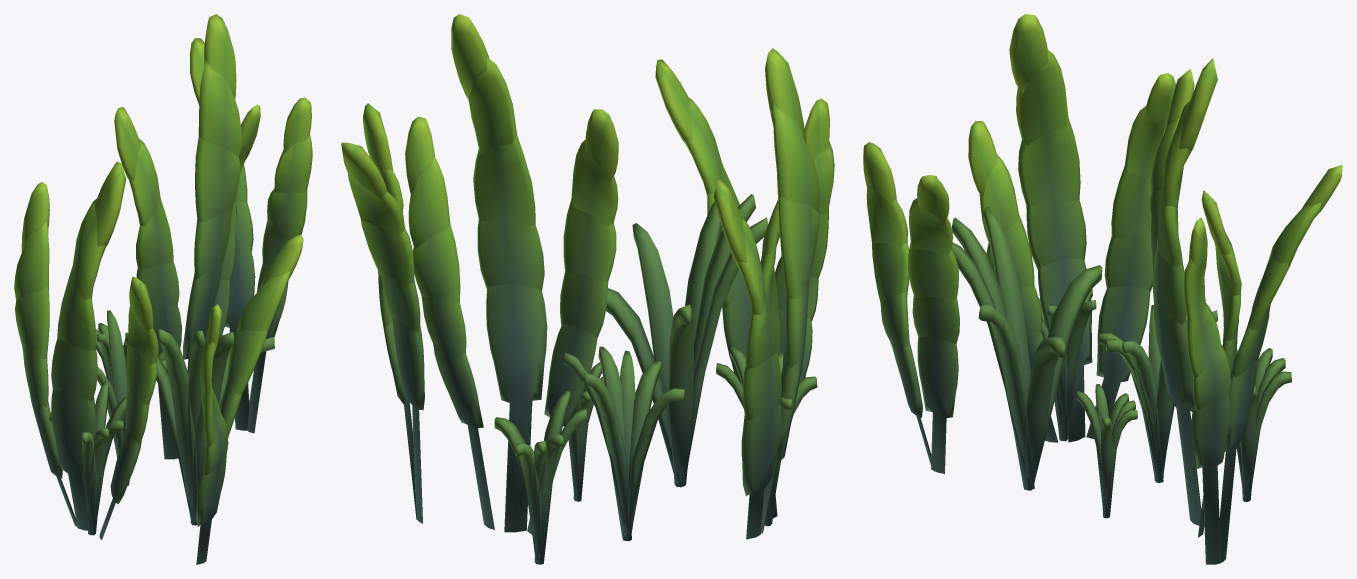
The model's file is Moss_Group_01.fbx.
The picture shows the model from 3 angles, left to right: view 1: azimuth 30°, elevation 25°; view 2: azimuth 150°, elevation 25°; view 3: azimuth 270°, elevation 25°; orthographic projection. The views are drawn at different scales.
Parts seen in each view (by area): view 1: Moss_Group_01; view 2: Moss_Group_01; view 3: Moss_Group_01.
Part boxes in pixels (x1,y1,x2,y2): Moss_Group_01: (14,14,312,564); Moss_Group_01: (341,14,834,564); Moss_Group_01: (863,14,1342,564).
Bounding box in the file's own units: 188 × 245 × 219.
